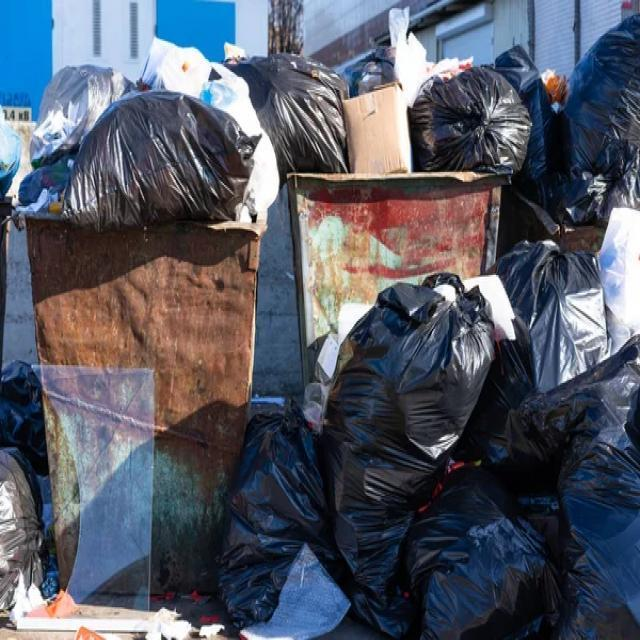Trashbag: (316, 282, 490, 570), (62, 90, 258, 240), (516, 397, 640, 626), (218, 410, 339, 608), (428, 491, 572, 637), (222, 48, 351, 181), (501, 244, 612, 390), (559, 17, 640, 199), (412, 65, 533, 174)
